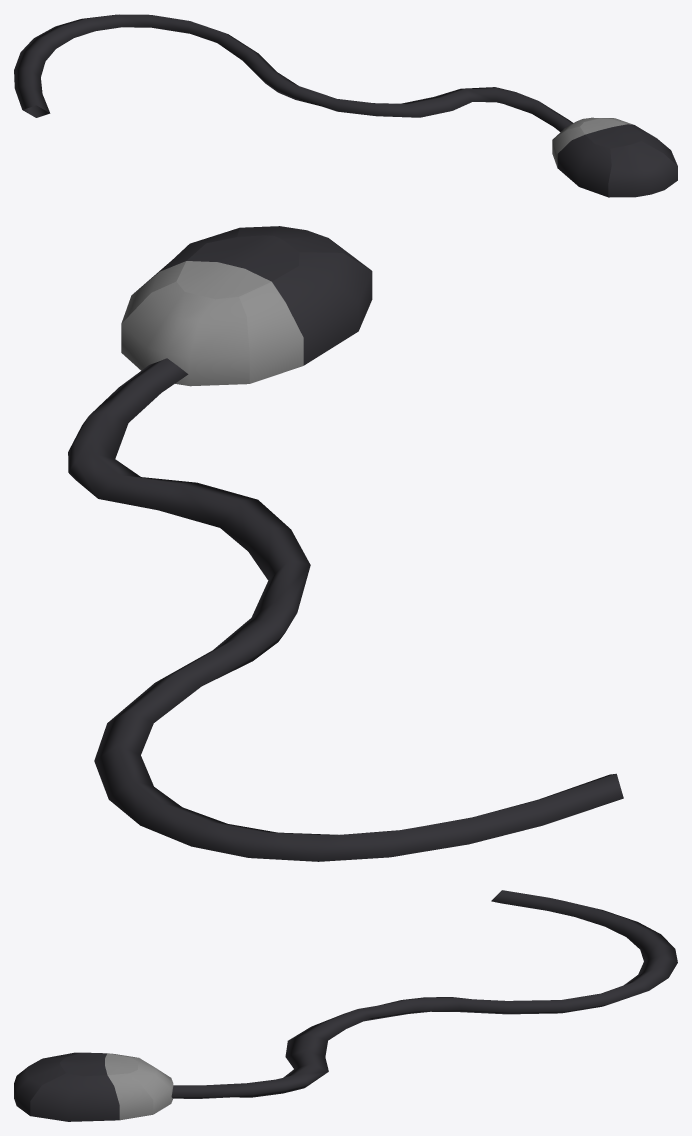
File: multimedia_mouse.fbx
3 views of the same model, one above another, from view 1: azimuth 30°, elevation 25°; view 2: azimuth 150°, elevation 25°; view 3: azimuth 270°, elevation 25° (orthographic). The views are drawn at different scales.
Visible parts, largest first — view 1: multimedia_mouse; view 2: multimedia_mouse; view 3: multimedia_mouse.
Part boxes in pixels (box(x1,y1,x2,y2)): multimedia_mouse: box(14, 14, 677, 197); multimedia_mouse: box(68, 226, 623, 861); multimedia_mouse: box(14, 890, 677, 1121).
Size of the model in its own units: 0.00201 by 0.000155 by 0.00253.
1 material, 1 textured.
